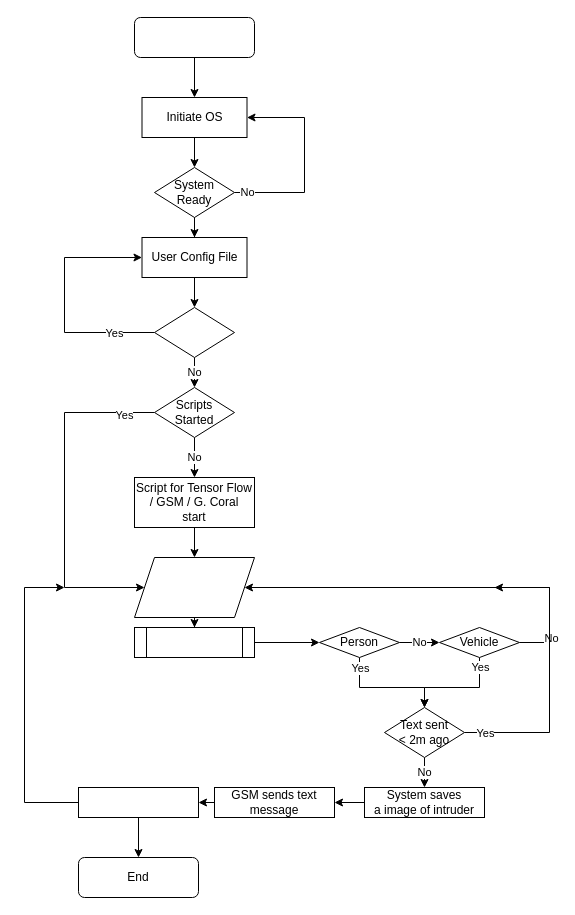
The diagram is 575 pixels wide and 915 high, and some of its shapes have lost their labels. The centre of each missing label's shape, as x and y in pixels:
Analyze frames: pixel 194 642
Get Video Frames: pixel 194 587
Sleep Mode: pixel 194 332
Start.: pixel 194 37
User receives text: pixel 138 802
